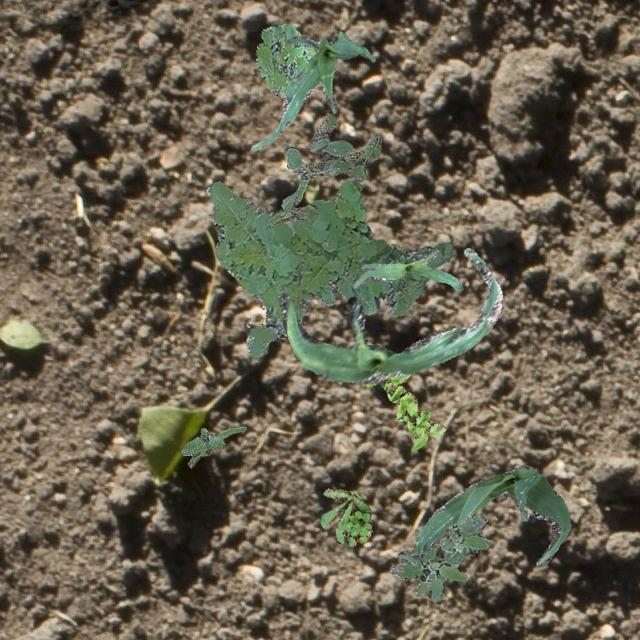crop: (278, 248, 502, 382), (414, 464, 570, 566), (250, 29, 374, 150), (352, 250, 462, 290)
weed: (206, 178, 452, 356), (266, 112, 380, 226), (388, 514, 489, 602), (366, 372, 444, 450), (253, 22, 314, 94), (320, 488, 370, 546), (180, 426, 246, 466)
